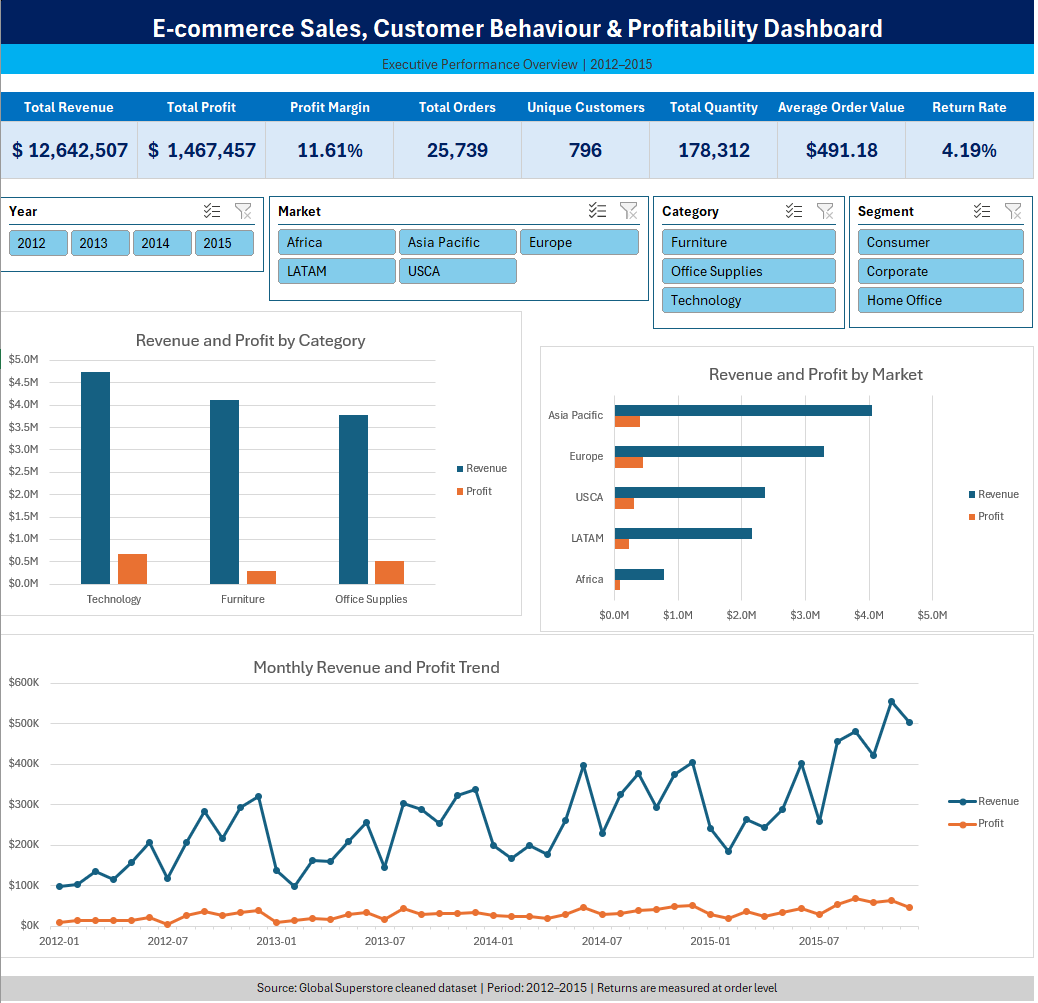

What the dashboard file says about the page in this screenshot:
{"tool":"powerbi","page":{"name":"01 Executive Overview","canvas":[1280,720],"ordinal":1},"visuals":[{"type":"shape","box":[0,0,1279.7,65.6],"z":0},{"type":"textbox","box":[10.9,10.9,876.6,45.3],"z":1000},{"type":"textbox","box":[0,32.8,1280,150],"z":2000},{"type":"cardVisual","fields":{"Data":["_Measures.Total Revenue"]},"box":[20,95,168,105],"z":3000},{"type":"cardVisual","fields":{"Data":["_Measures.Total Profit"]},"box":[198,95,168,105],"z":4000},{"type":"cardVisual","fields":{"Data":["_Measures.Profit Margin"]},"box":[376,95,168,105],"z":5000},{"type":"cardVisual","fields":{"Data":["_Measures.Total Orders"]},"box":[554,95,168,105],"z":6000},{"type":"cardVisual","fields":{"Data":["_Measures.Unique Customers"]},"box":[732,95,168,105],"z":7000},{"type":"cardVisual","fields":{"Data":["_Measures.Average Order Value"]},"box":[910,95,168,105],"z":8000},{"type":"cardVisual","fields":{"Data":["_Measures.Return Rate"]},"box":[1088,95,168,105],"z":9000},{"type":"lineClusteredColumnComboChart","title":"Monthly Revenue & Profit Trend","fields":{"Category":["DimDate.year_month"],"Y":["_Measures.Total Revenue"],"Y2":["_Measures.Total Profit"]},"box":[20,208.9,1235.6,280],"z":10000},{"type":"lineClusteredColumnComboChart","title":"Category Revenue & Profit Margin","fields":{"Y":["_Measures.Total Revenue"],"Y2":["_Measures.Profit Margin"],"Category":["DimProduct.category"]},"box":[22.2,492.2,615.6,223.3],"z":11000},{"type":"clusteredBarChart","title":"Revenue by Market & Region","fields":{"Category":["DimGeography.market","DimGeography.region"],"Y":["_Measures.Total Revenue"]},"box":[640,492.2,615,223],"z":12000}]}

Visuals, with their boxes on the page's 1280x720 design canvas (x1, y1, x2, y2). These are canvas units, not pixel positions in the 1038x1003 screenshot, which may show the page scaled, cropped or inside an application window:
shape: rect(0, 0, 1280, 66)
textbox: rect(11, 11, 888, 56)
textbox: rect(0, 33, 1280, 183)
cardVisual - _Measures.Total Revenue: rect(20, 95, 188, 200)
cardVisual - _Measures.Total Profit: rect(198, 95, 366, 200)
cardVisual - _Measures.Profit Margin: rect(376, 95, 544, 200)
cardVisual - _Measures.Total Orders: rect(554, 95, 722, 200)
cardVisual - _Measures.Unique Customers: rect(732, 95, 900, 200)
cardVisual - _Measures.Average Order Value: rect(910, 95, 1078, 200)
cardVisual - _Measures.Return Rate: rect(1088, 95, 1256, 200)
"Monthly Revenue & Profit Trend" lineClusteredColumnComboChart: rect(20, 209, 1256, 489)
"Category Revenue & Profit Margin" lineClusteredColumnComboChart: rect(22, 492, 638, 716)
"Revenue by Market & Region" clusteredBarChart: rect(640, 492, 1255, 715)
